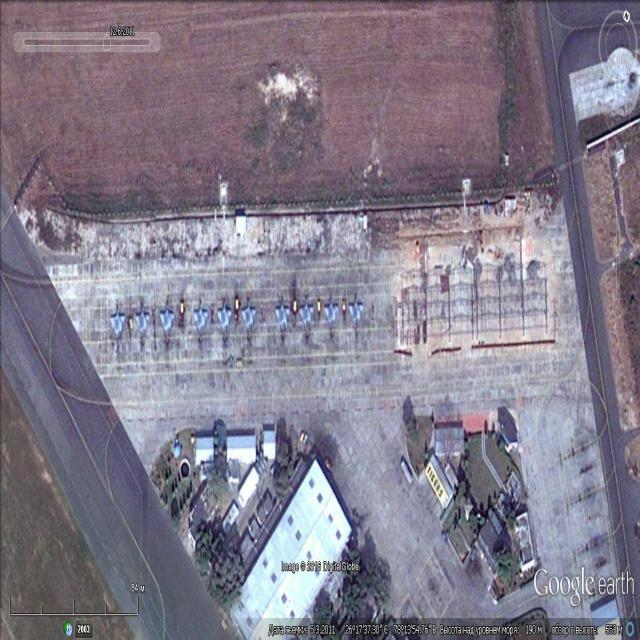MIL_Plane: (110, 306, 126, 351), (134, 304, 150, 348), (158, 303, 175, 343), (298, 295, 314, 336), (274, 297, 290, 337), (192, 301, 208, 340), (217, 300, 233, 339), (348, 296, 364, 335), (240, 299, 256, 337), (324, 296, 339, 335)
